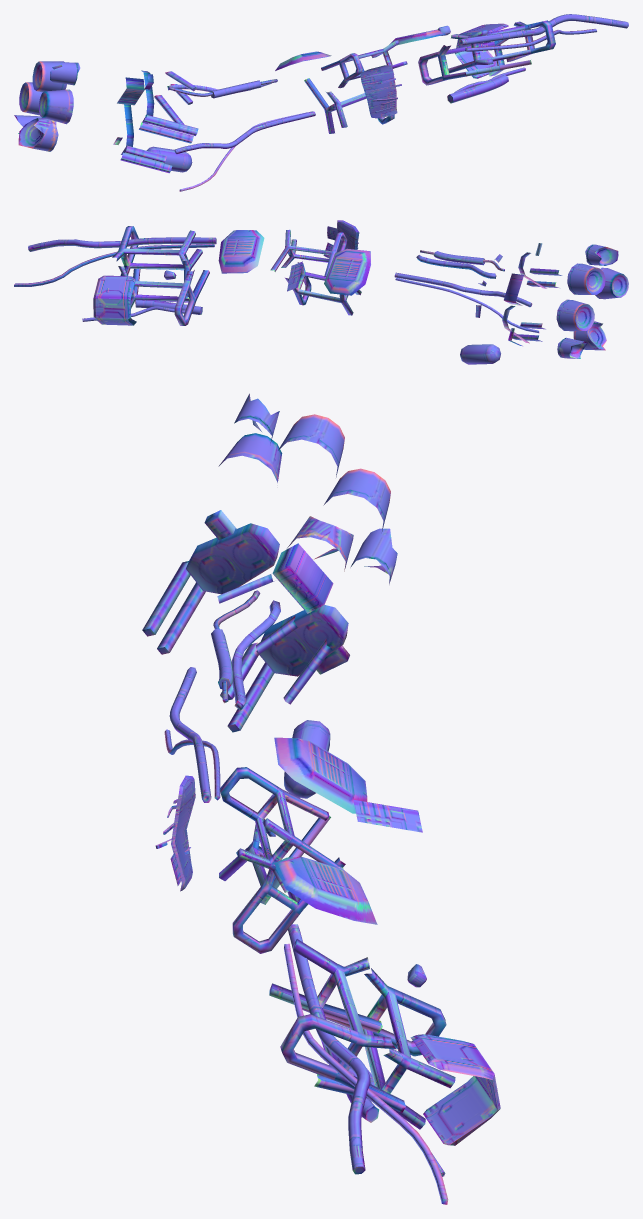
Rendered from ship_wreck_06.glb.
The picture shows the model from 3 angles, top to bottom: view 1: azimuth 30°, elevation 25°; view 2: azimuth 150°, elevation 25°; view 3: azimuth 270°, elevation 25°; orthographic projection. The views are drawn at different scales.
Visible parts, largest first — view 1: ship_wreck_06_LOD0; view 2: ship_wreck_06_LOD0; view 3: ship_wreck_06_LOD0.
Part boxes in pixels (left/top/right/bottom): ship_wreck_06_LOD0: left=14, top=14, right=628, bottom=191; ship_wreck_06_LOD0: left=14, top=220, right=628, bottom=364; ship_wreck_06_LOD0: left=142, top=393, right=500, bottom=1204.
Size of what is drawn, in the model's own units: 17.61 by 4.63 by 4.79.
2 materials, 2 textured.
